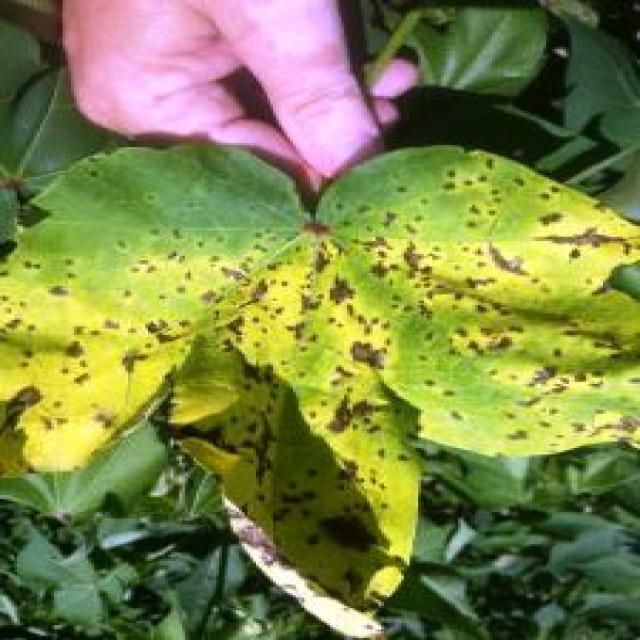Bacterial Blight: (87, 252, 502, 424)
